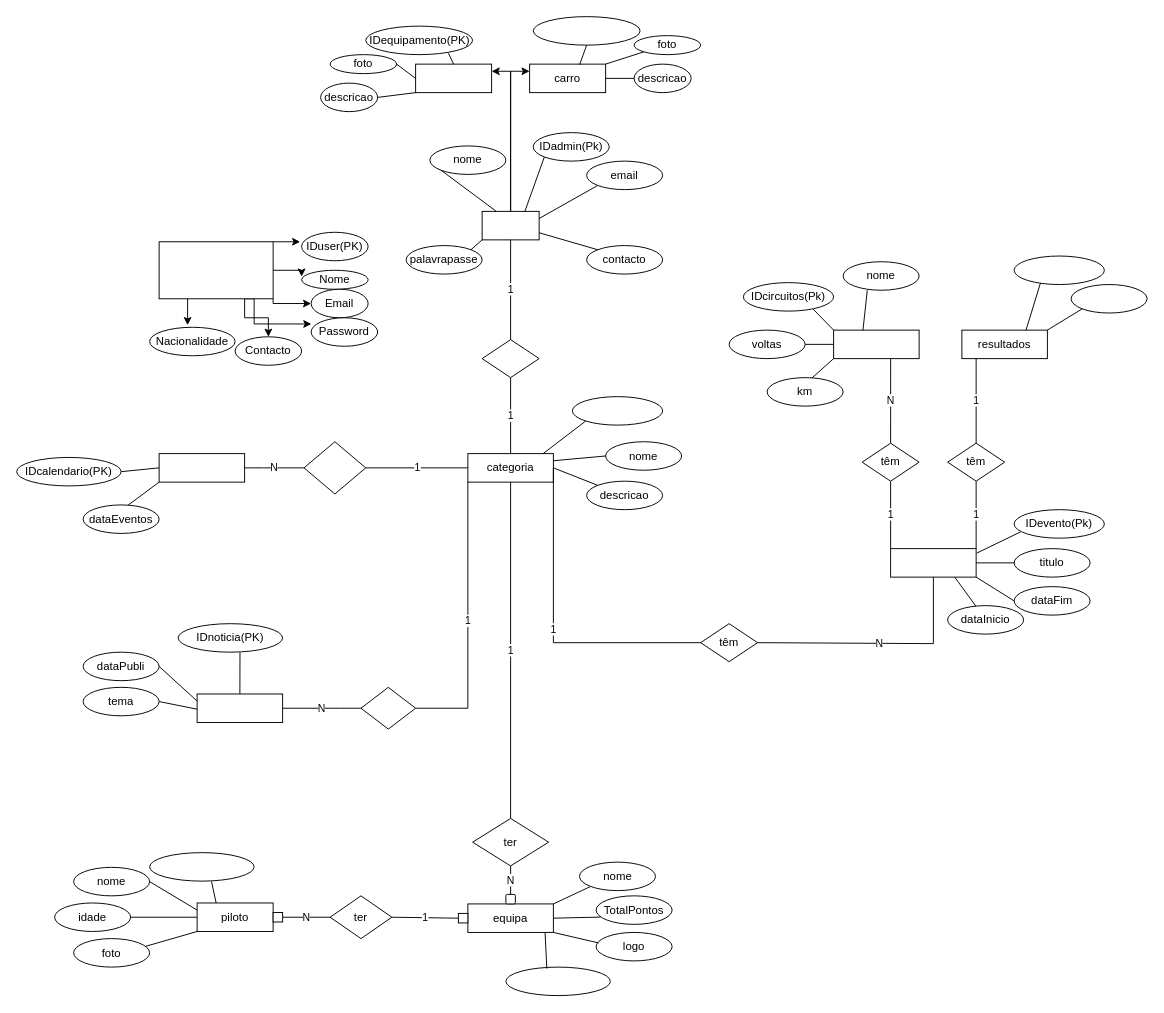
Some shapes in this 1164 by 1013 pixel diagram are drawn without their labels. The shapes that lost their labels are listed below. From the top down, each one's box as (x1, y1, x2, y2) in pixels, then its label:
(532, 16, 640, 45): IDcarro(PK)
(415, 63, 492, 93): equipamento
(481, 210, 539, 240): Admin
(158, 241, 273, 299): Utilizador
(1013, 255, 1104, 285): IDresultado(Pk)
(1070, 284, 1147, 313): resultado
(481, 339, 539, 378): acesso
(833, 329, 919, 359): circuitos
(571, 396, 663, 425): IDcategoria(Pk)
(158, 453, 245, 482): calendario
(303, 441, 366, 494): possui
(890, 548, 976, 577): evento
(196, 693, 283, 722): noticia
(360, 686, 416, 729): recebe
(149, 852, 254, 881): IDpiloto(PK)
(505, 966, 610, 996): IDequipa(PK)
